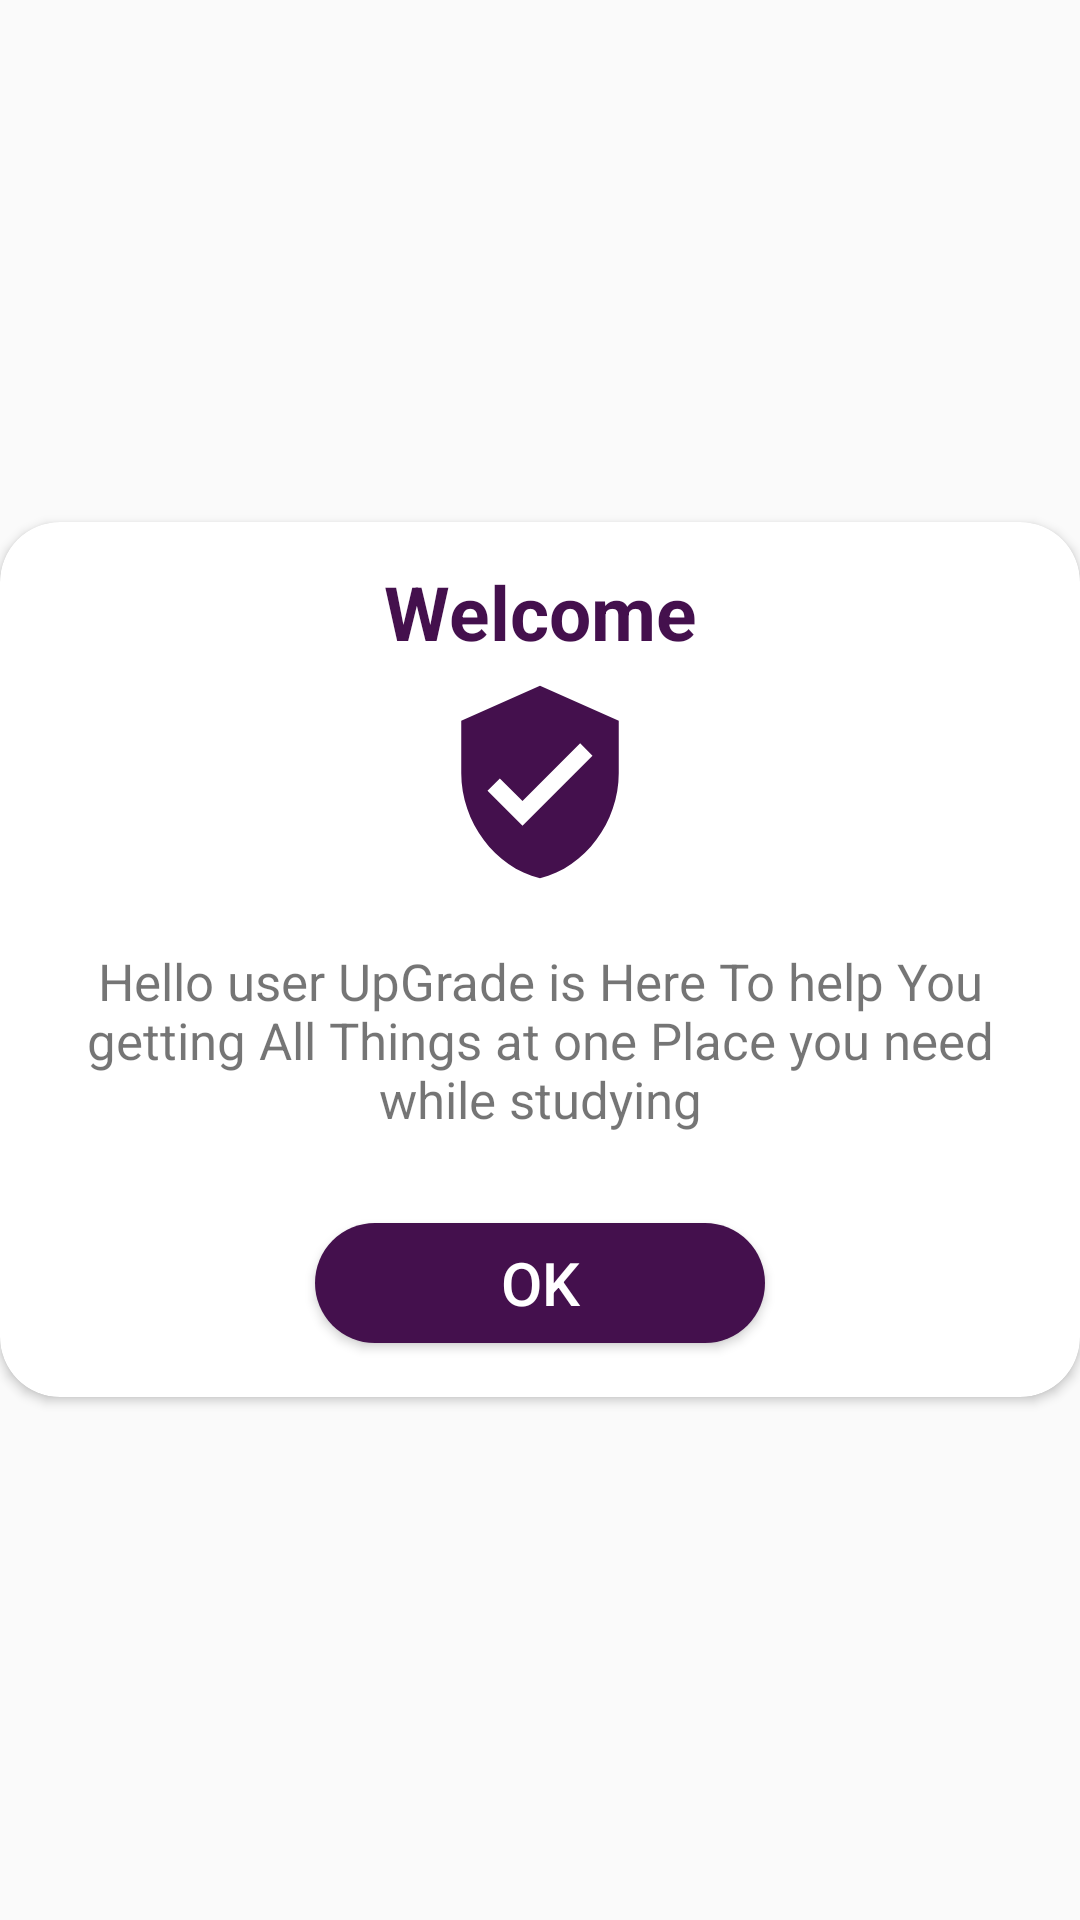

Named icons in this screenshot (1080×1920) and their bounding boxes, (x1, y1, x2, y2):
verified user: (461, 686, 619, 879)
